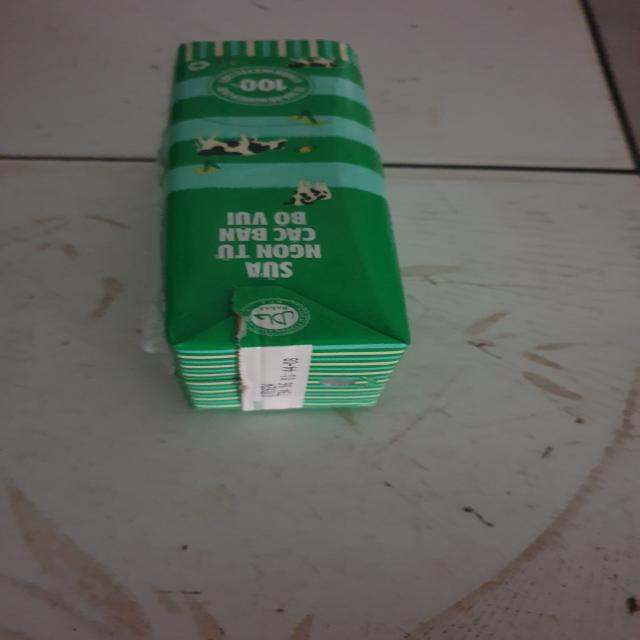Vina: (165, 34, 416, 414)
